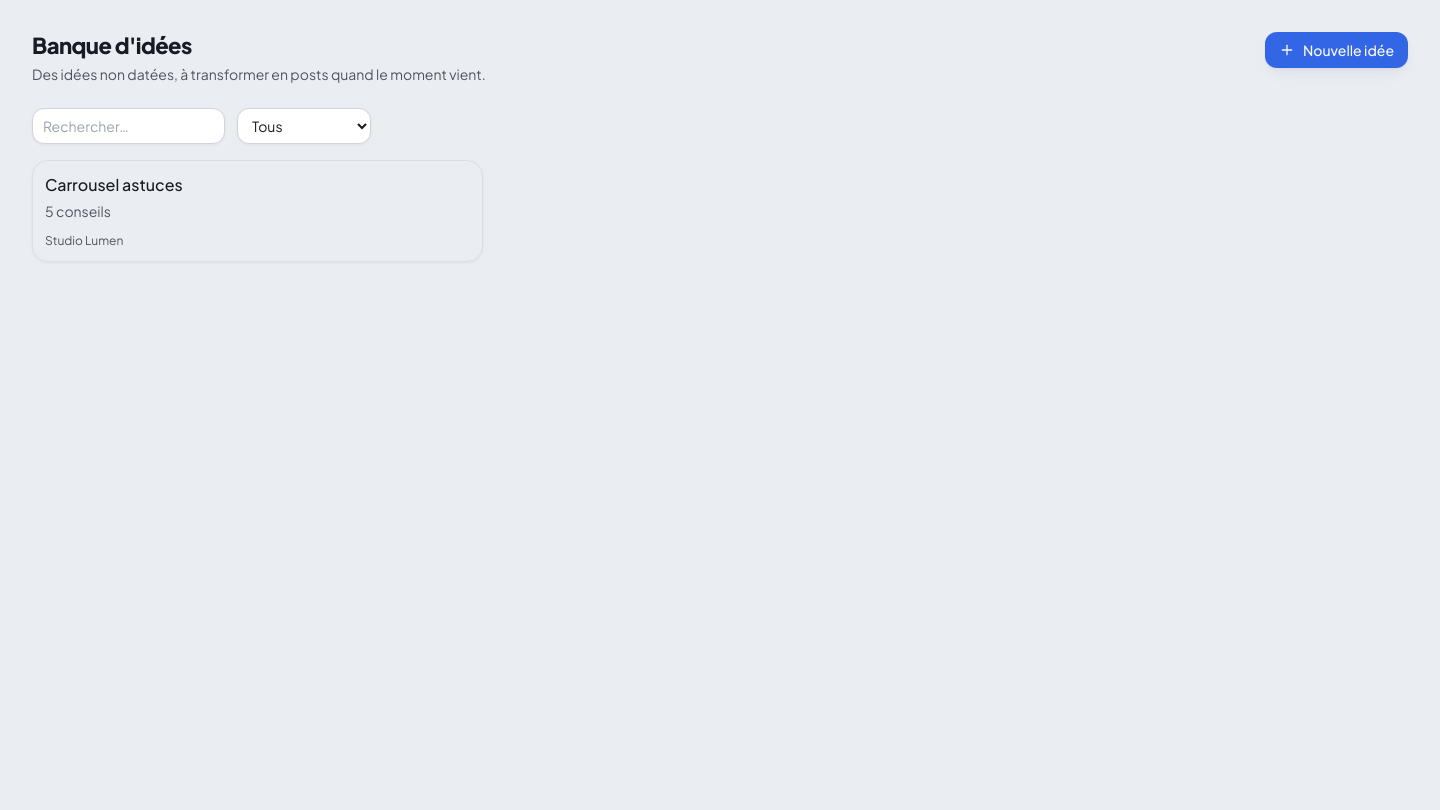
IdeasPage › idée déjà rattachée à un client : pas de sélecteur, bouton actif
Click the text "Carrousel astuces": (114, 185) x1=45 y1=173 x2=183 y2=197
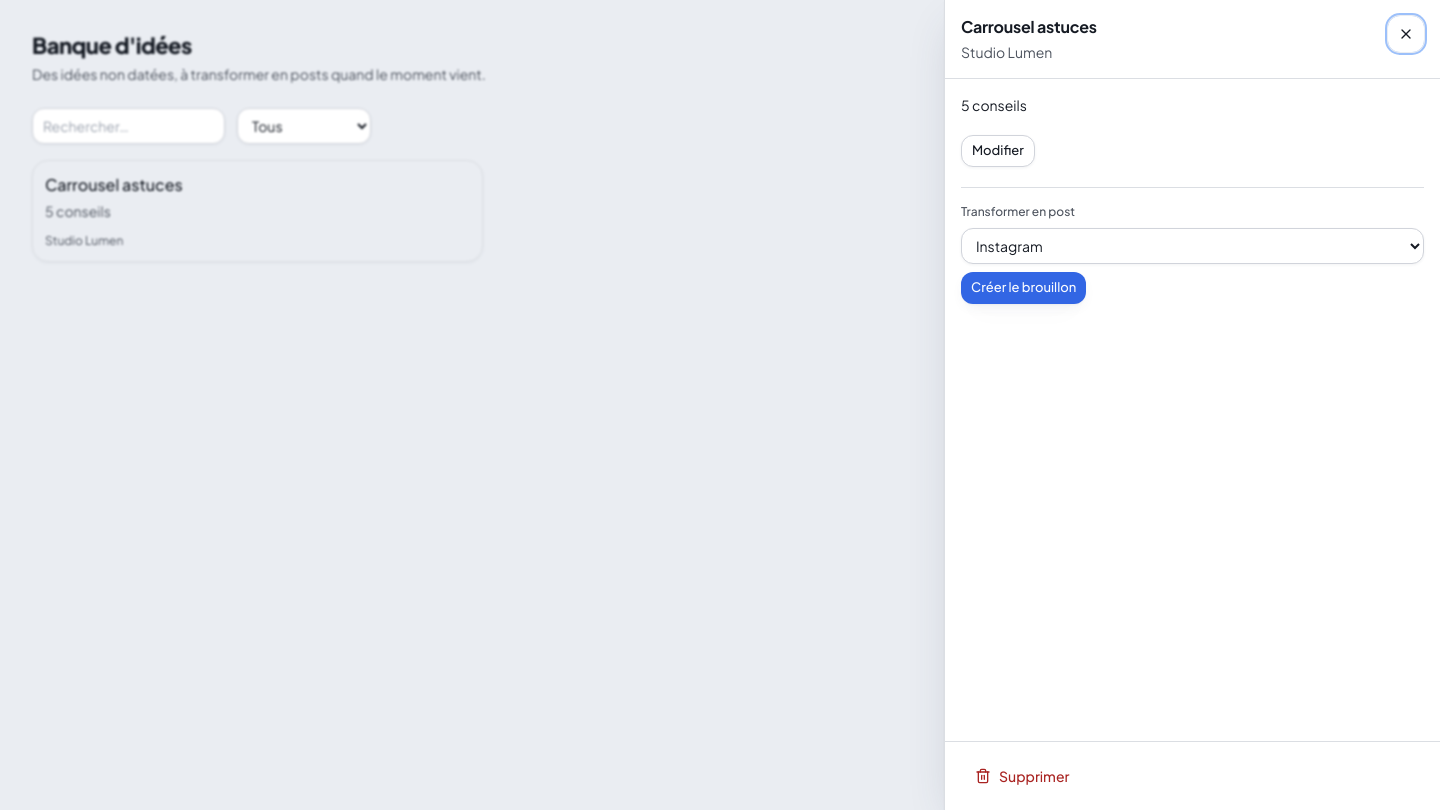
Now the button "Créer le brouillon" is enabled, box x1=961 y1=272 x2=1086 y2=304
